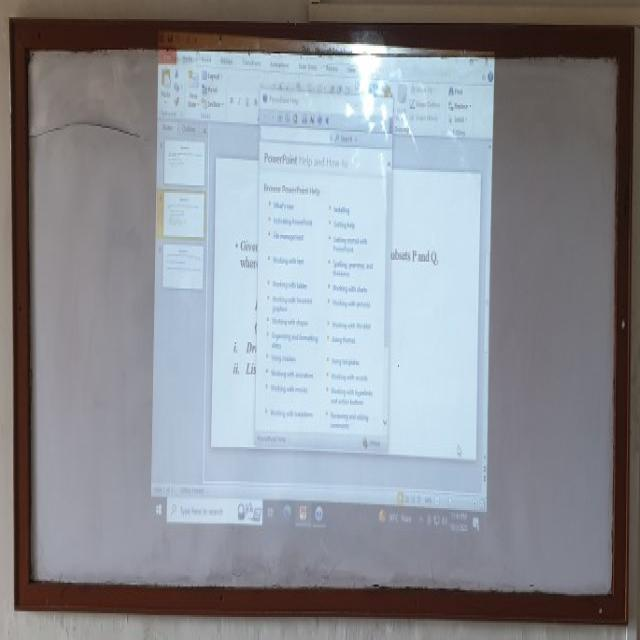Slide: (147, 29, 495, 541)
White-board: (18, 32, 623, 605)
